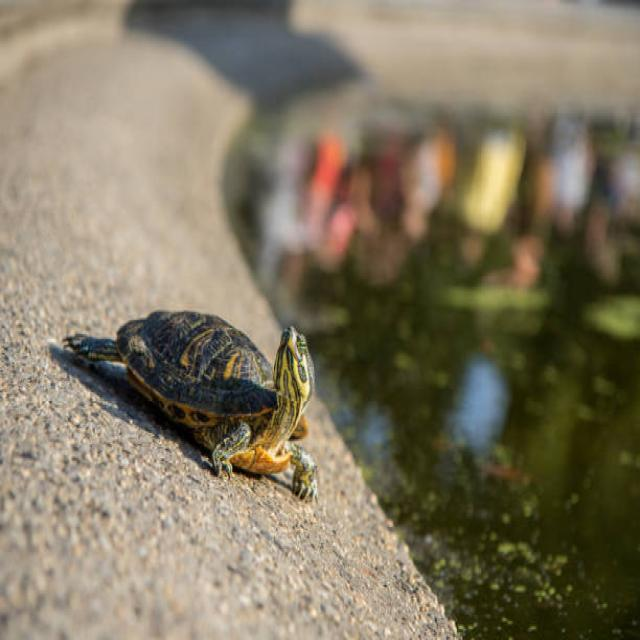terrapin: (129, 290, 334, 400), (189, 408, 259, 501), (58, 306, 117, 388), (287, 434, 331, 520)
